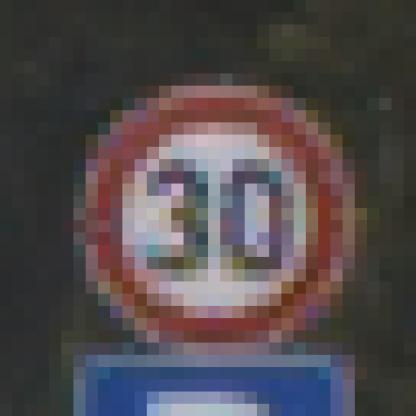Speed Limit 30: (89, 86, 338, 354)
